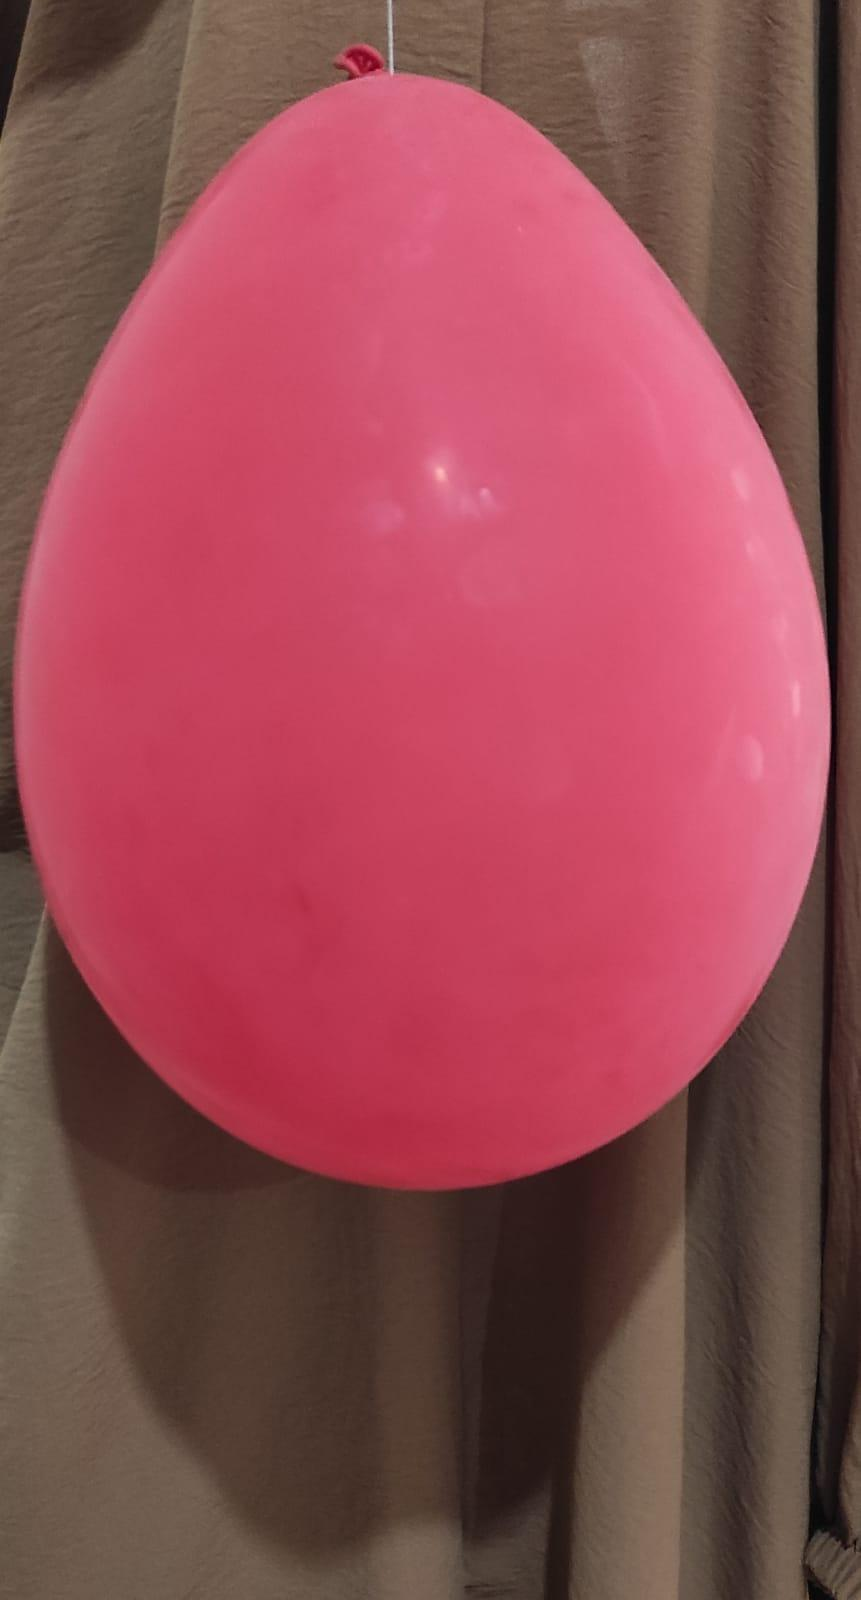red: (11, 37, 843, 1196)
